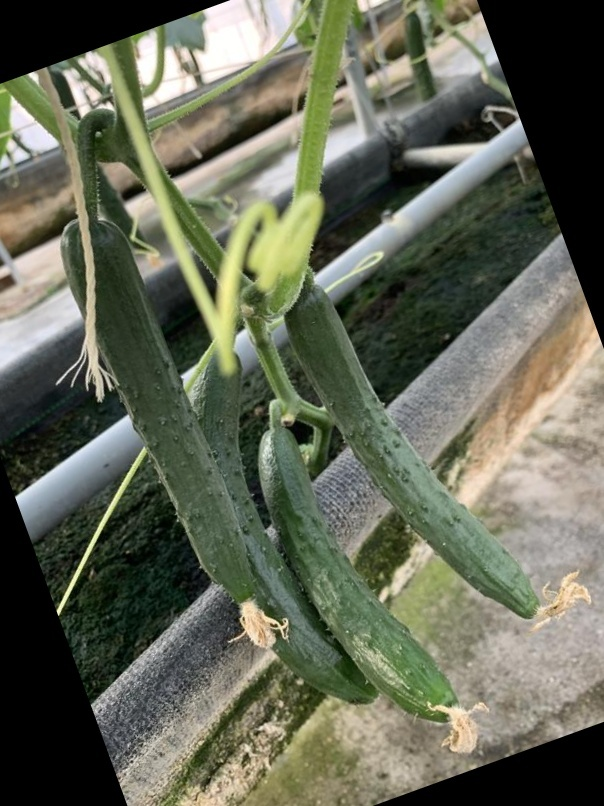mature: (288, 282, 551, 619), (57, 212, 258, 610), (181, 345, 376, 705), (253, 417, 465, 715)
